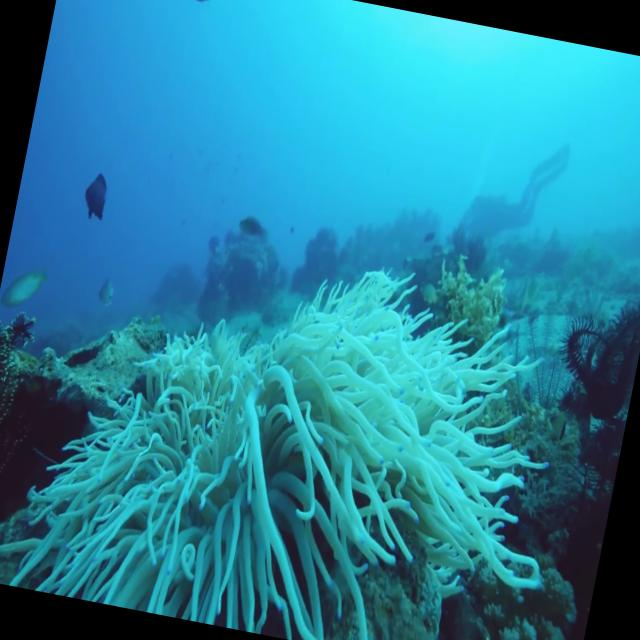fish: (0, 244, 56, 323), (72, 164, 131, 229), (84, 266, 127, 318), (167, 0, 218, 10)
